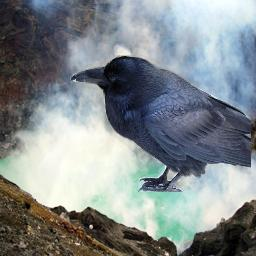Crow: (70, 55, 251, 192)
